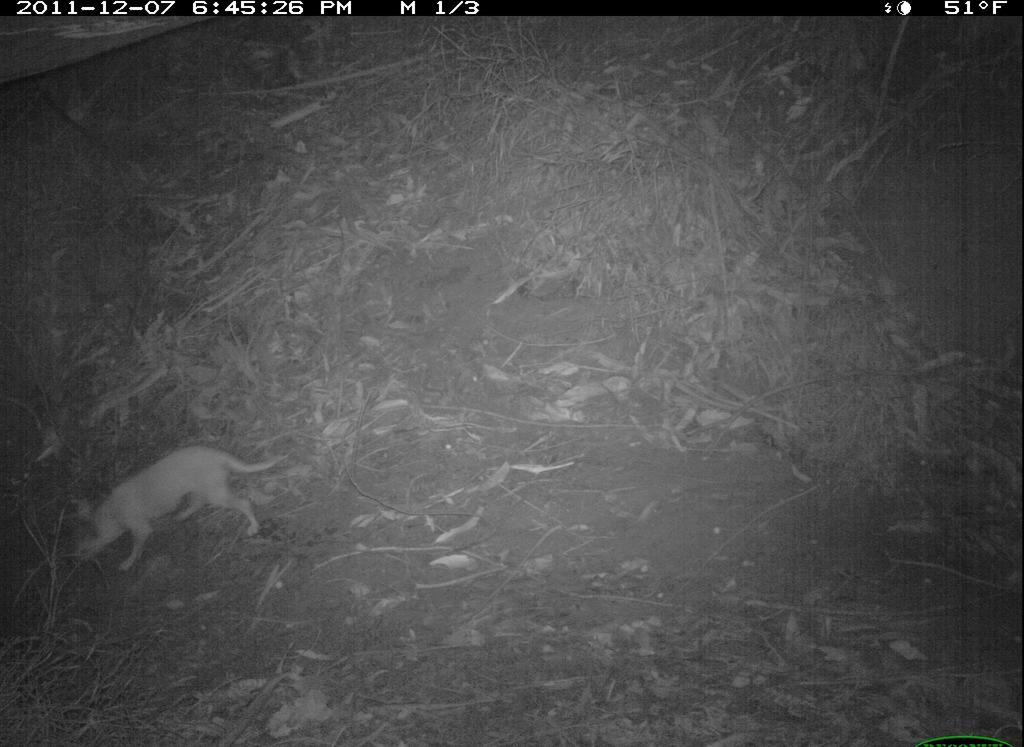dog: (63, 441, 291, 577)
